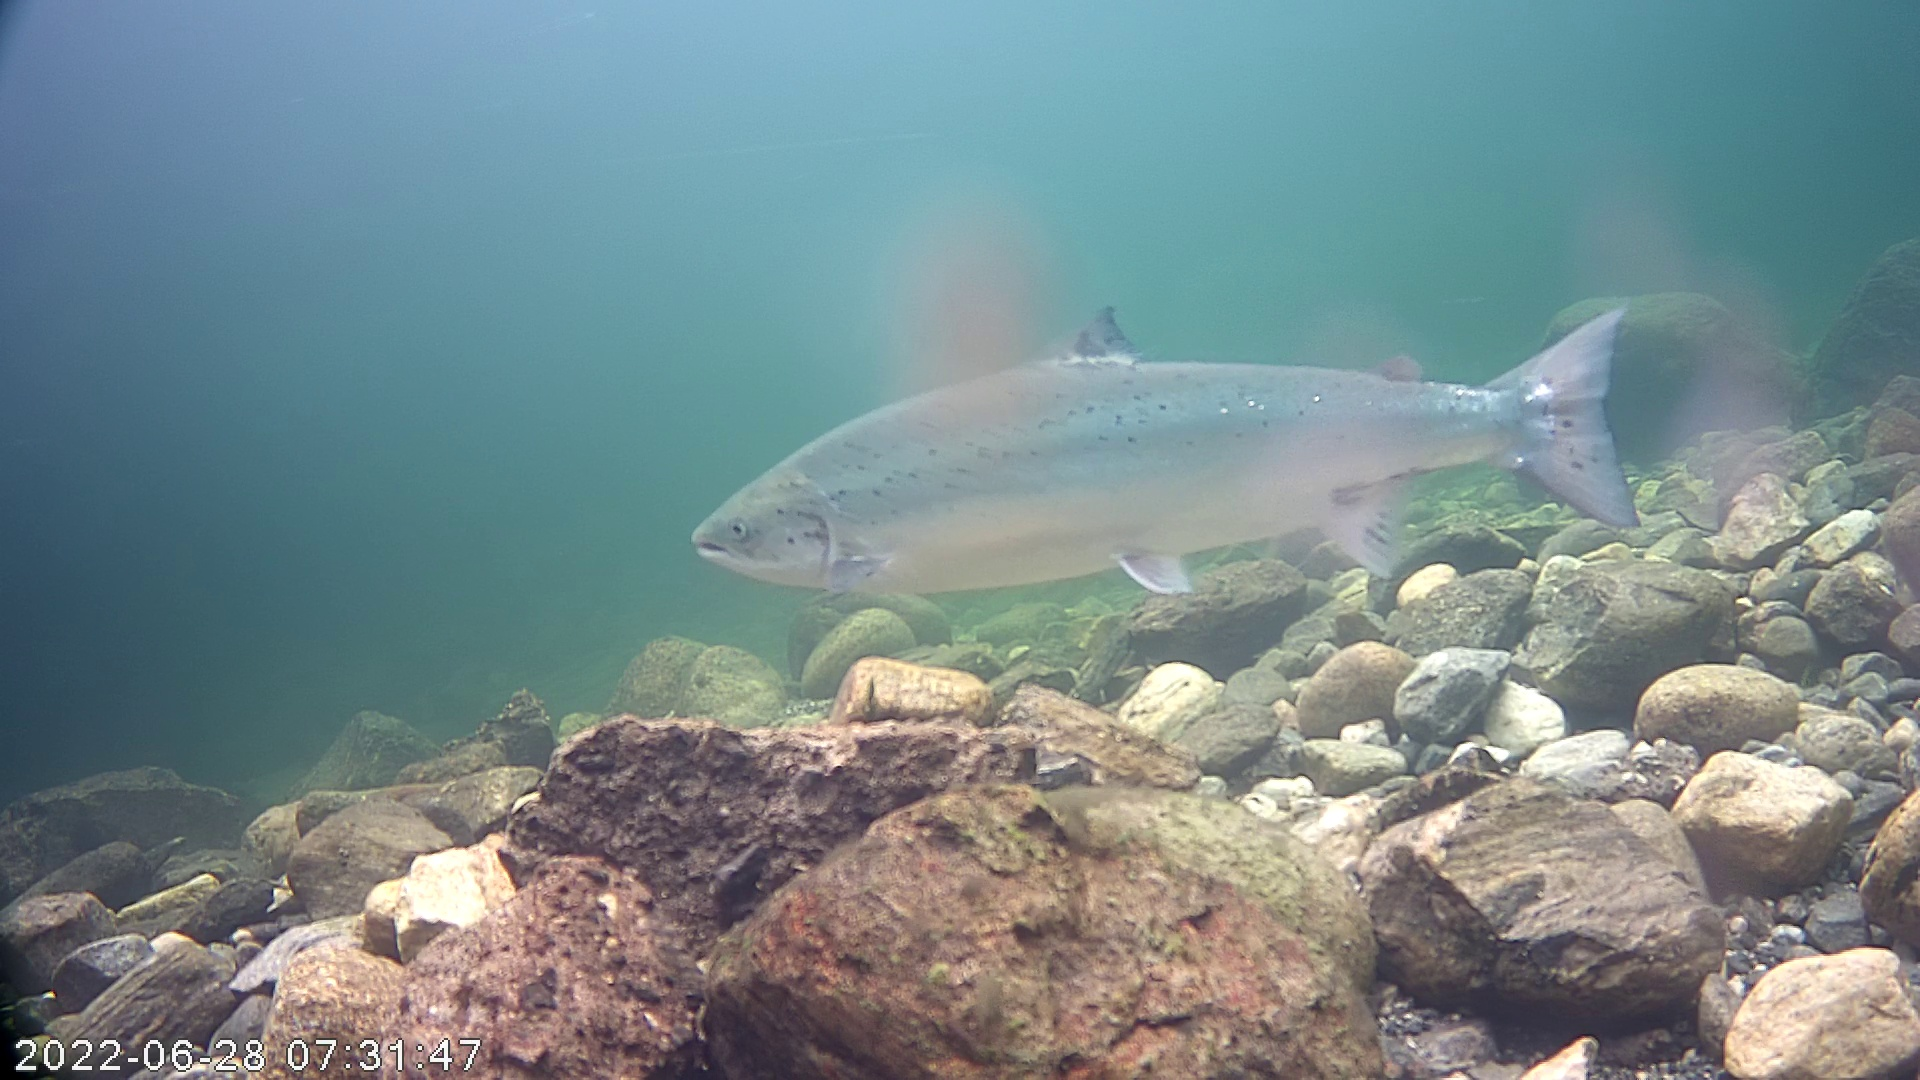salmon: (684, 218, 1663, 654)
